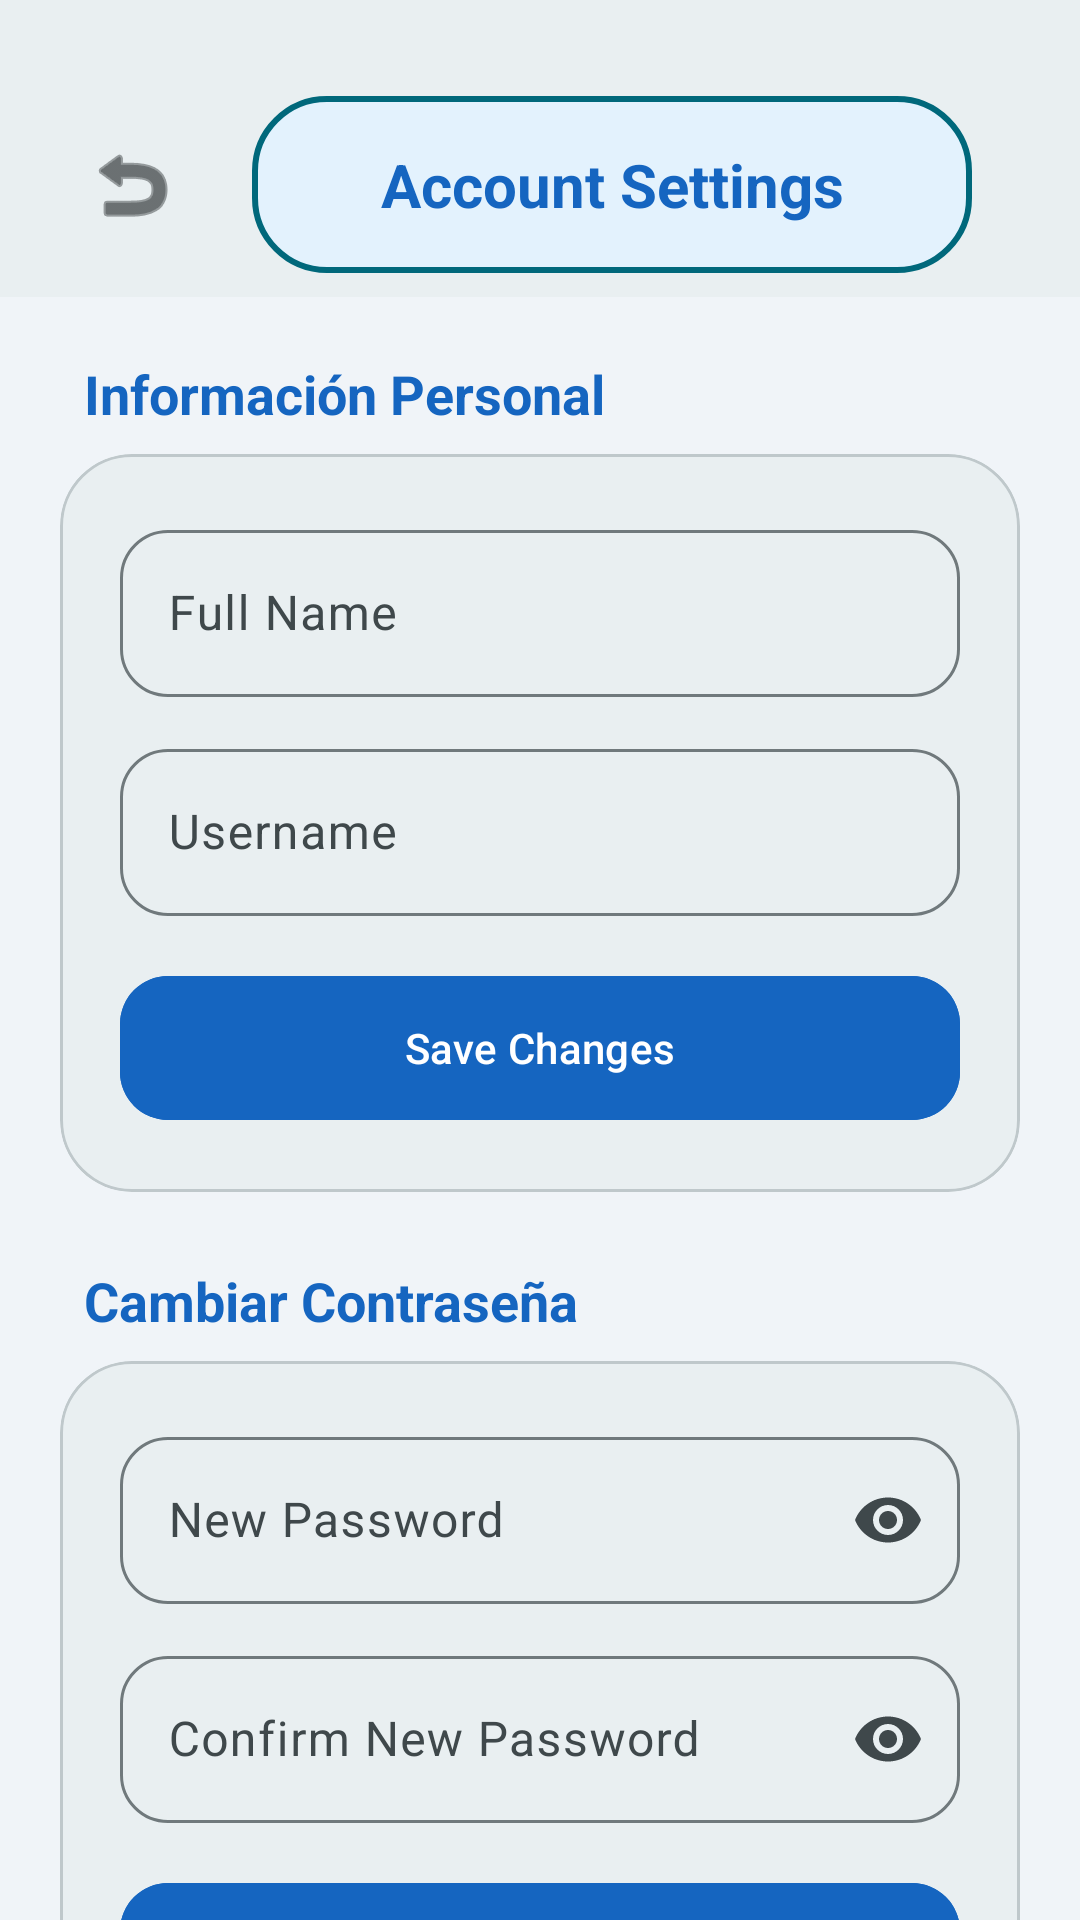

Screen size 1080x1920. Icon name, then its center in pixels as [x,y]:
revert: [133,185]
